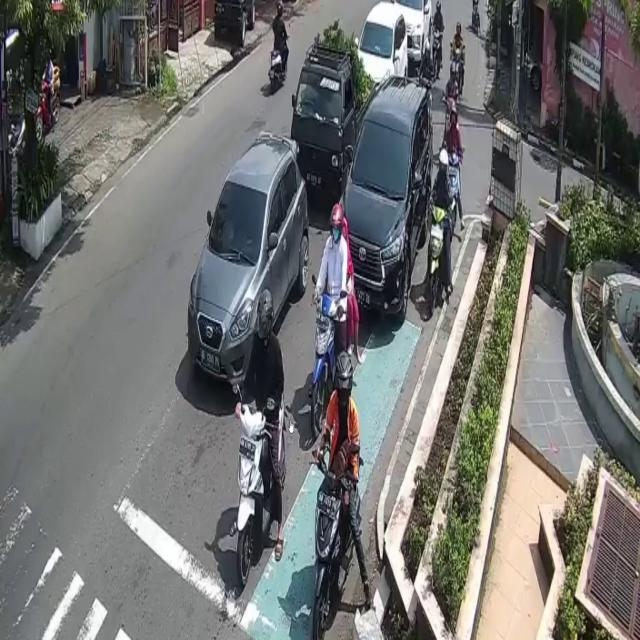bus: (234, 390, 290, 583), (313, 458, 360, 640), (314, 292, 343, 430), (428, 208, 443, 302), (268, 28, 289, 90), (446, 153, 463, 222)
motorcycle: (188, 131, 308, 393), (341, 77, 434, 322), (290, 42, 376, 200), (358, 0, 409, 84), (392, 0, 433, 60)
